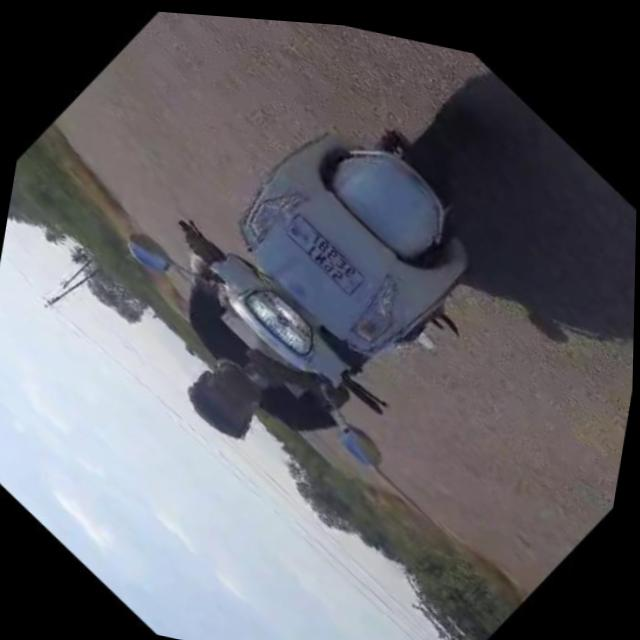USING_MOBILE: (170, 313, 339, 485)
